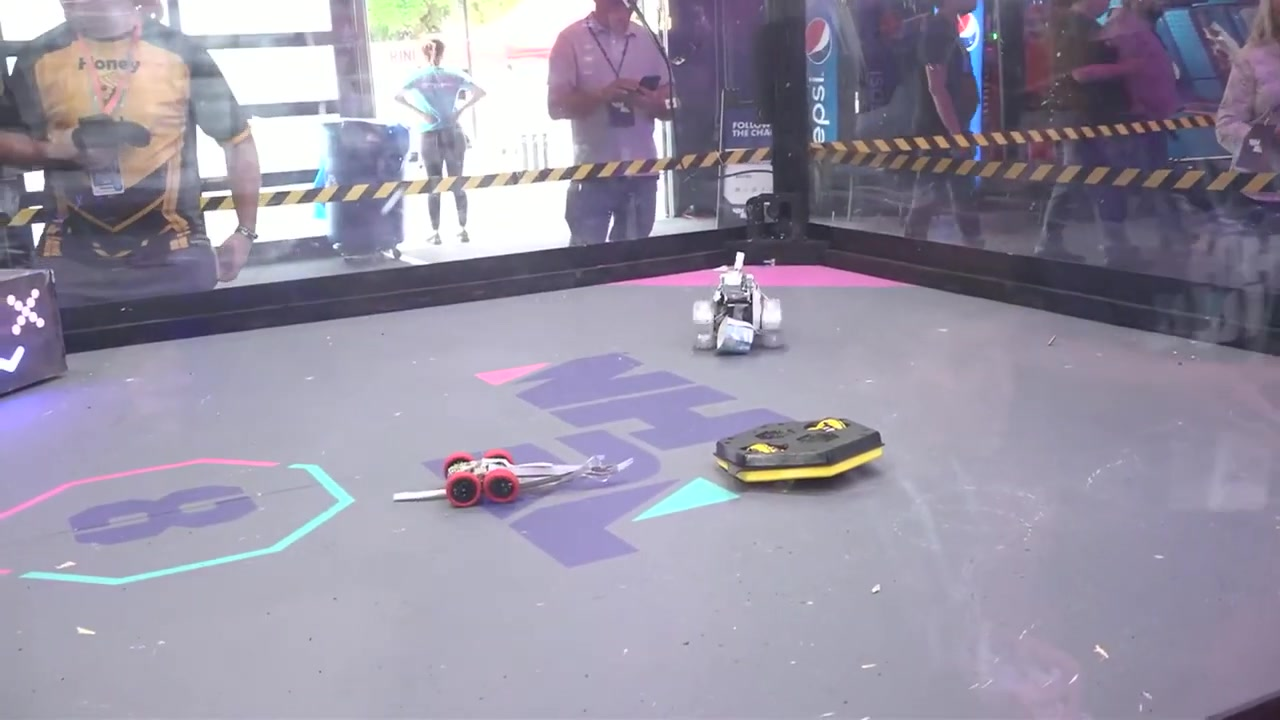combatbot: (714, 416, 885, 487), (692, 250, 785, 358)
housebot: (0, 265, 67, 410)
minibot: (393, 451, 635, 507)
